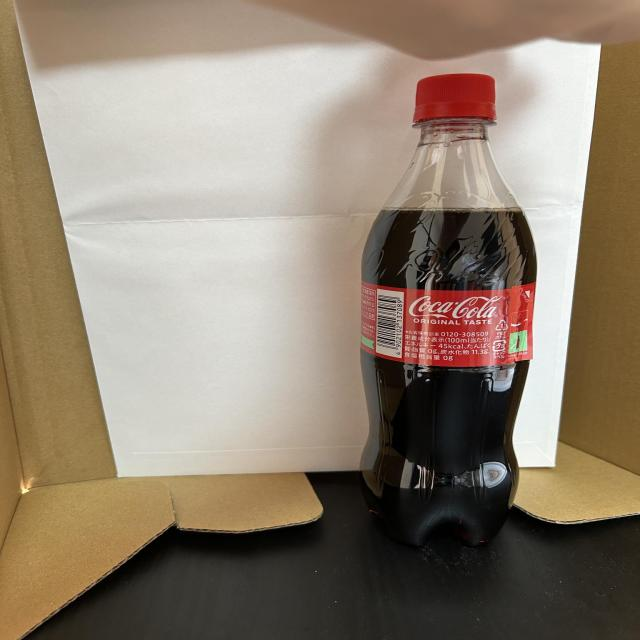high: (360, 73, 537, 546)
